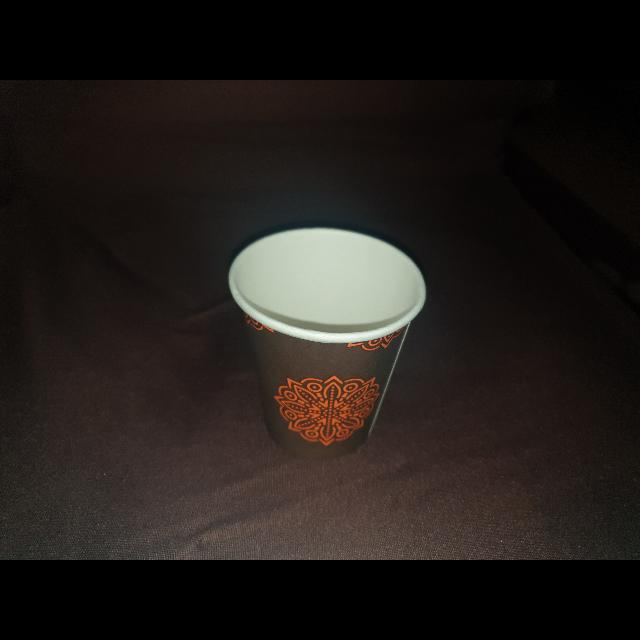trash: (223, 219, 433, 463)
